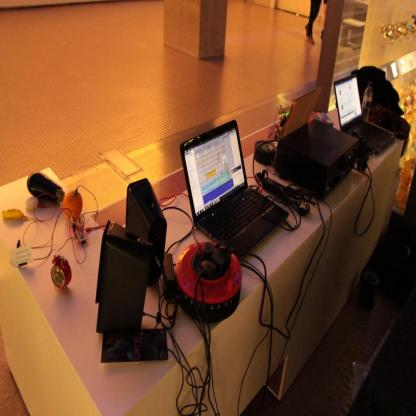board: (189, 120, 282, 259), (332, 75, 396, 156)
